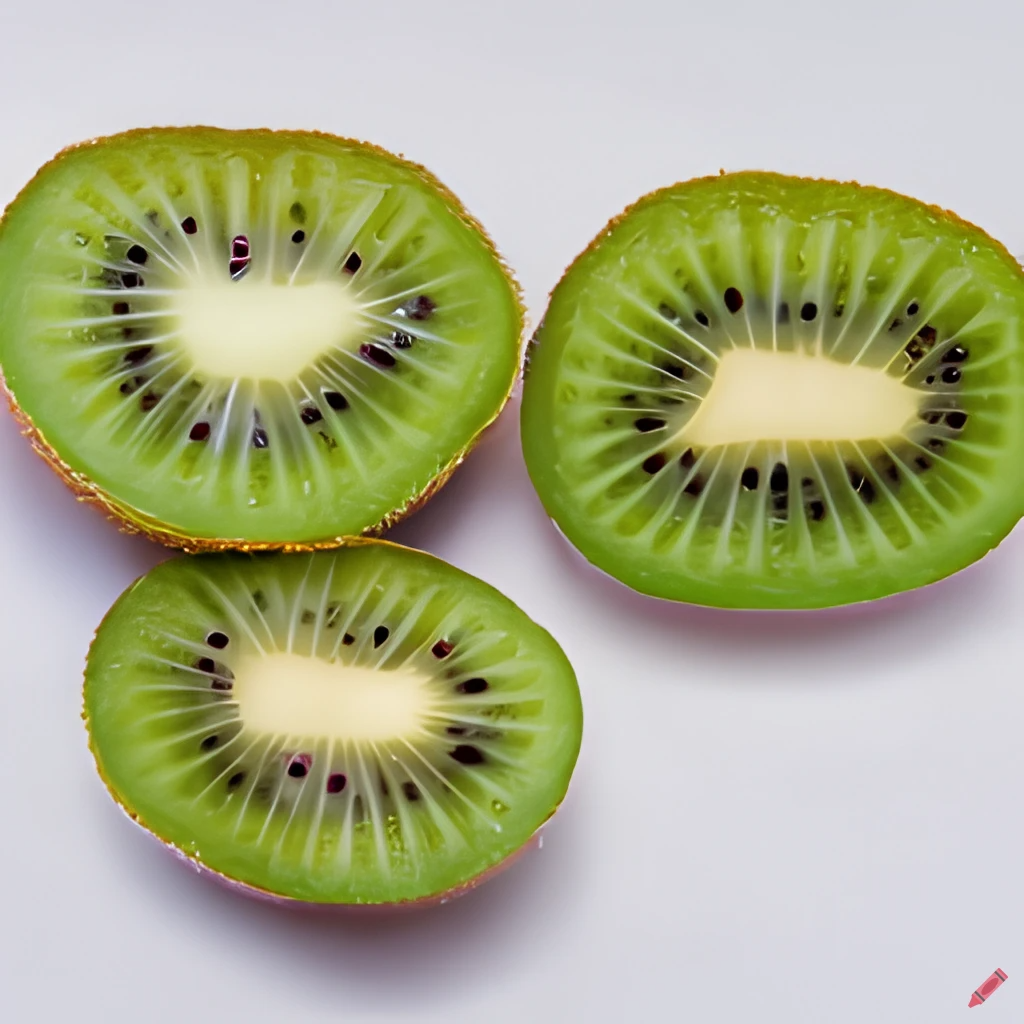Kiwi: (524, 144, 1024, 630)
